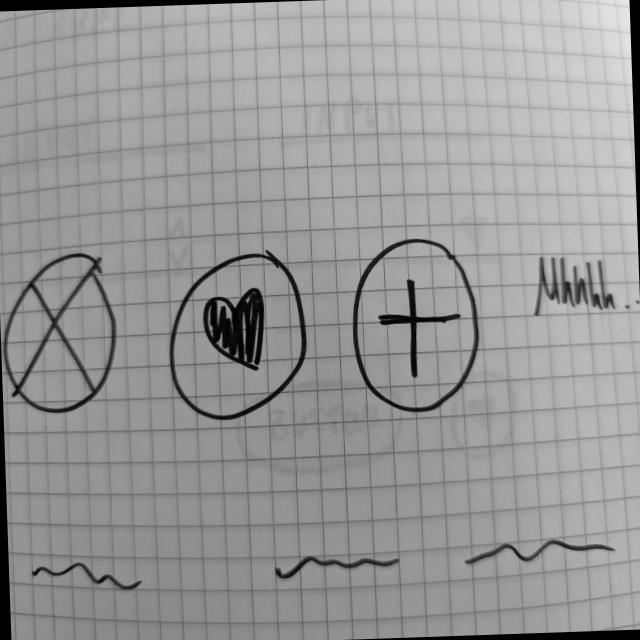icon-button: (164, 247, 313, 426), (347, 233, 487, 419)
image: (1, 249, 123, 419)
label: (529, 250, 640, 322)
text: (460, 531, 620, 570), (27, 554, 150, 602), (275, 549, 404, 584)
